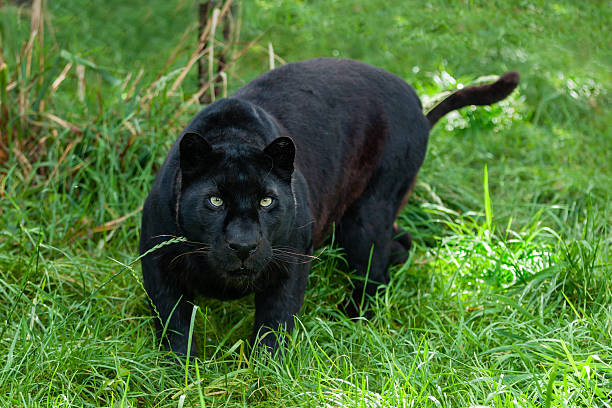panther: (161, 119, 318, 306)
